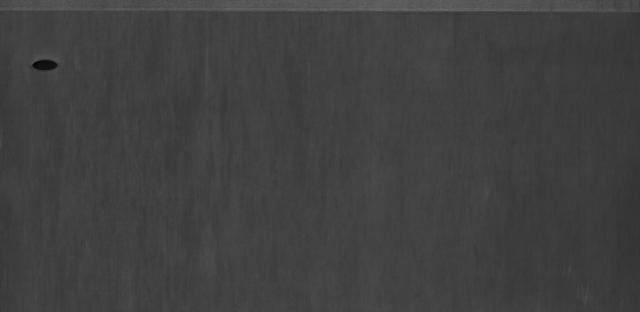punching_hole: (30, 55, 69, 74)
welding_line: (0, 4, 639, 26)
